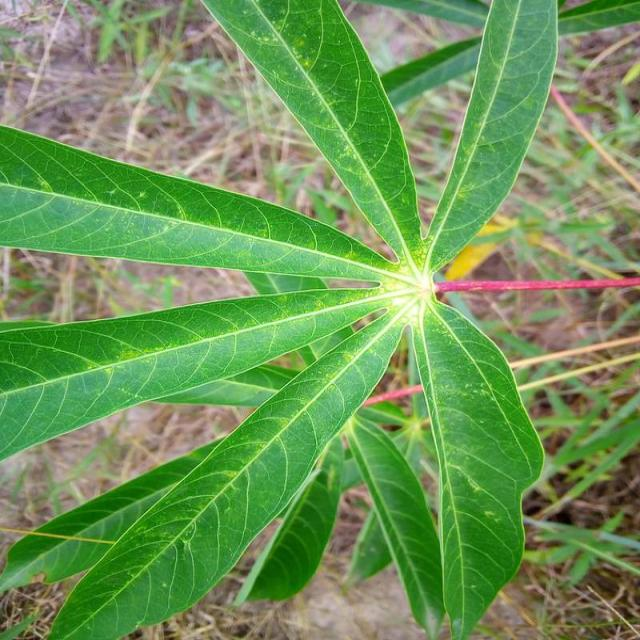cassava leaf: (0, 0, 562, 638), (45, 297, 407, 638), (199, 0, 423, 267), (409, 294, 545, 638)
